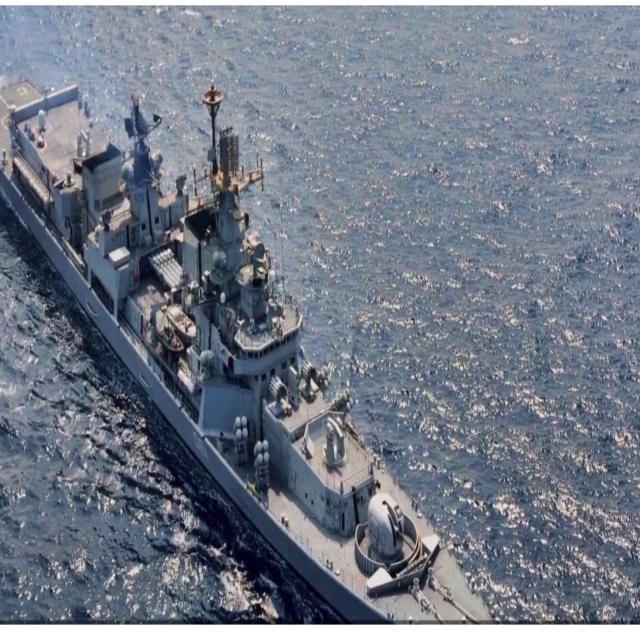OCR: (188, 426, 215, 474)
